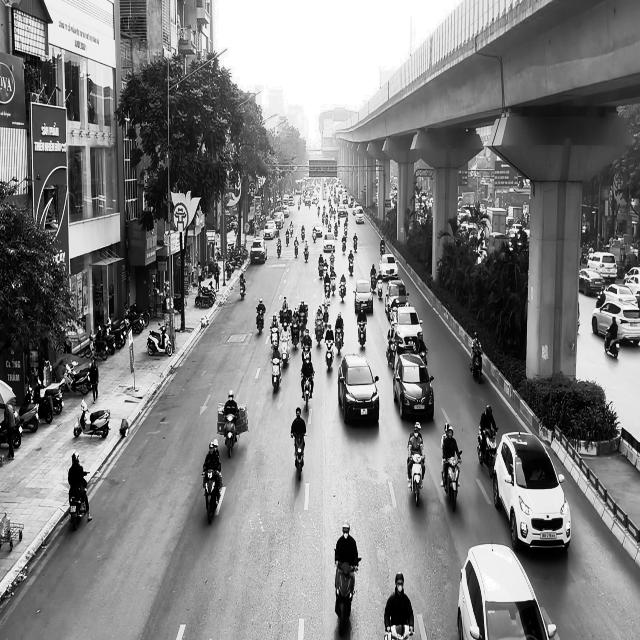car: (457, 542, 557, 640), (492, 431, 571, 552), (338, 353, 380, 424), (393, 352, 434, 420), (354, 279, 373, 314), (250, 238, 267, 263)
motorbike: (334, 550, 361, 634), (74, 399, 110, 438), (441, 451, 462, 511), (68, 472, 89, 530), (202, 466, 222, 524), (477, 426, 498, 478), (407, 453, 425, 507), (146, 322, 172, 356), (290, 430, 306, 480), (224, 413, 238, 458), (300, 371, 314, 412), (469, 341, 482, 383), (604, 329, 619, 358), (271, 356, 282, 394), (357, 320, 367, 348), (256, 308, 264, 335), (240, 281, 246, 300)
